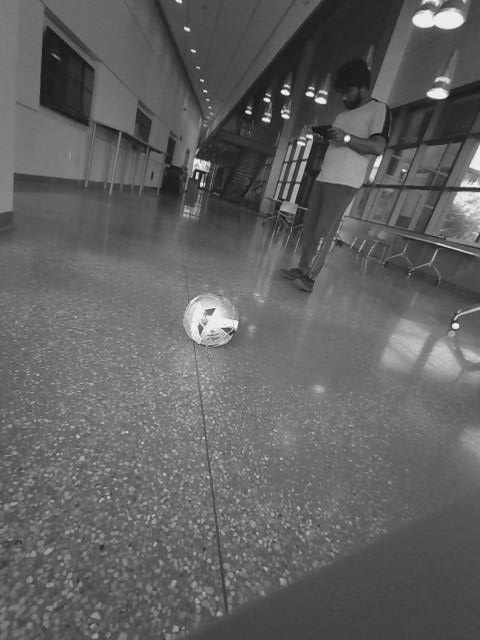ball: (179, 290, 245, 351)
